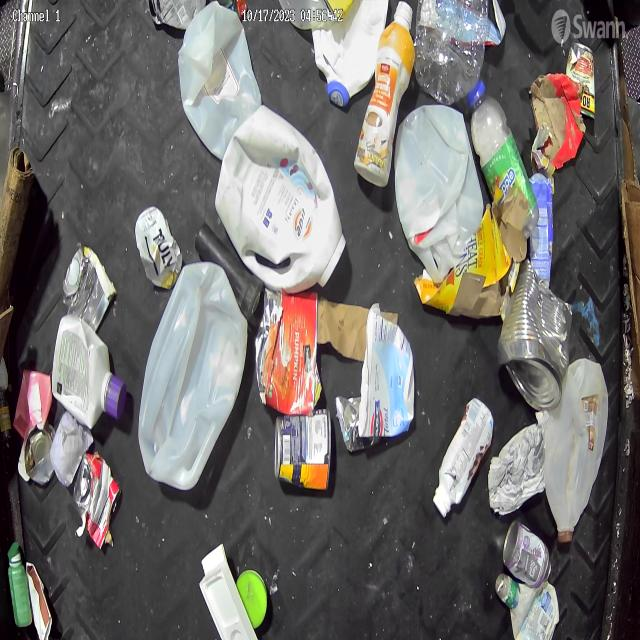can: (498, 278, 575, 411), (274, 408, 333, 497), (62, 246, 116, 334), (74, 452, 122, 550), (503, 519, 550, 588), (565, 41, 596, 123), (336, 394, 365, 456)
milk_jug: (140, 261, 250, 494), (179, 1, 261, 159), (395, 105, 479, 257), (544, 358, 608, 544), (312, 2, 388, 105)
plastic_bottle: (467, 81, 539, 238)
